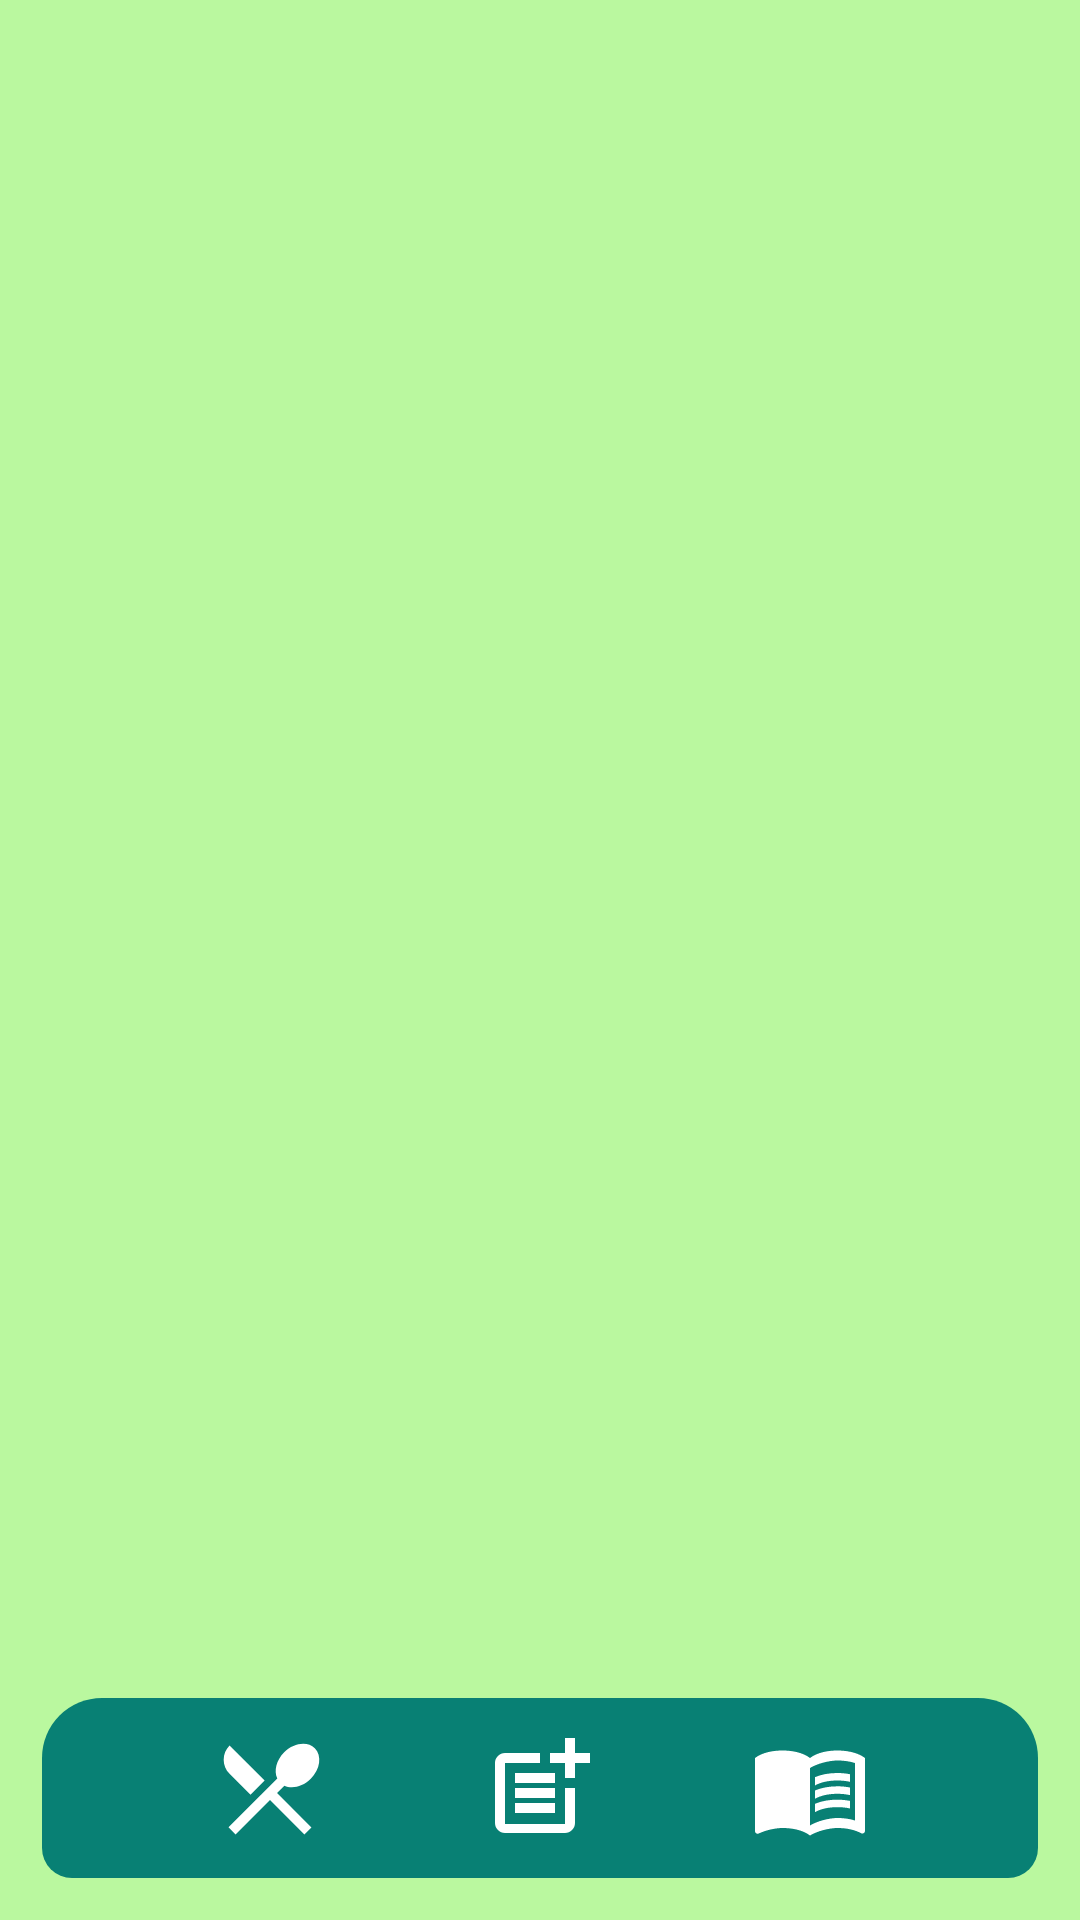

Icons on this 1080x1920 Android screen, each with the point to tap as (x=x, y=y):
add menu: (x=542, y=1785)
book: (x=810, y=1793)
talher: (x=271, y=1789)
